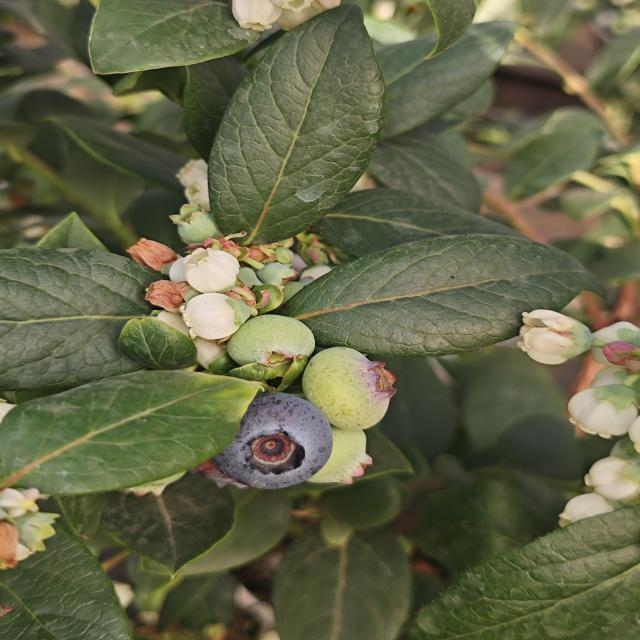ripe: (209, 391, 336, 492)
